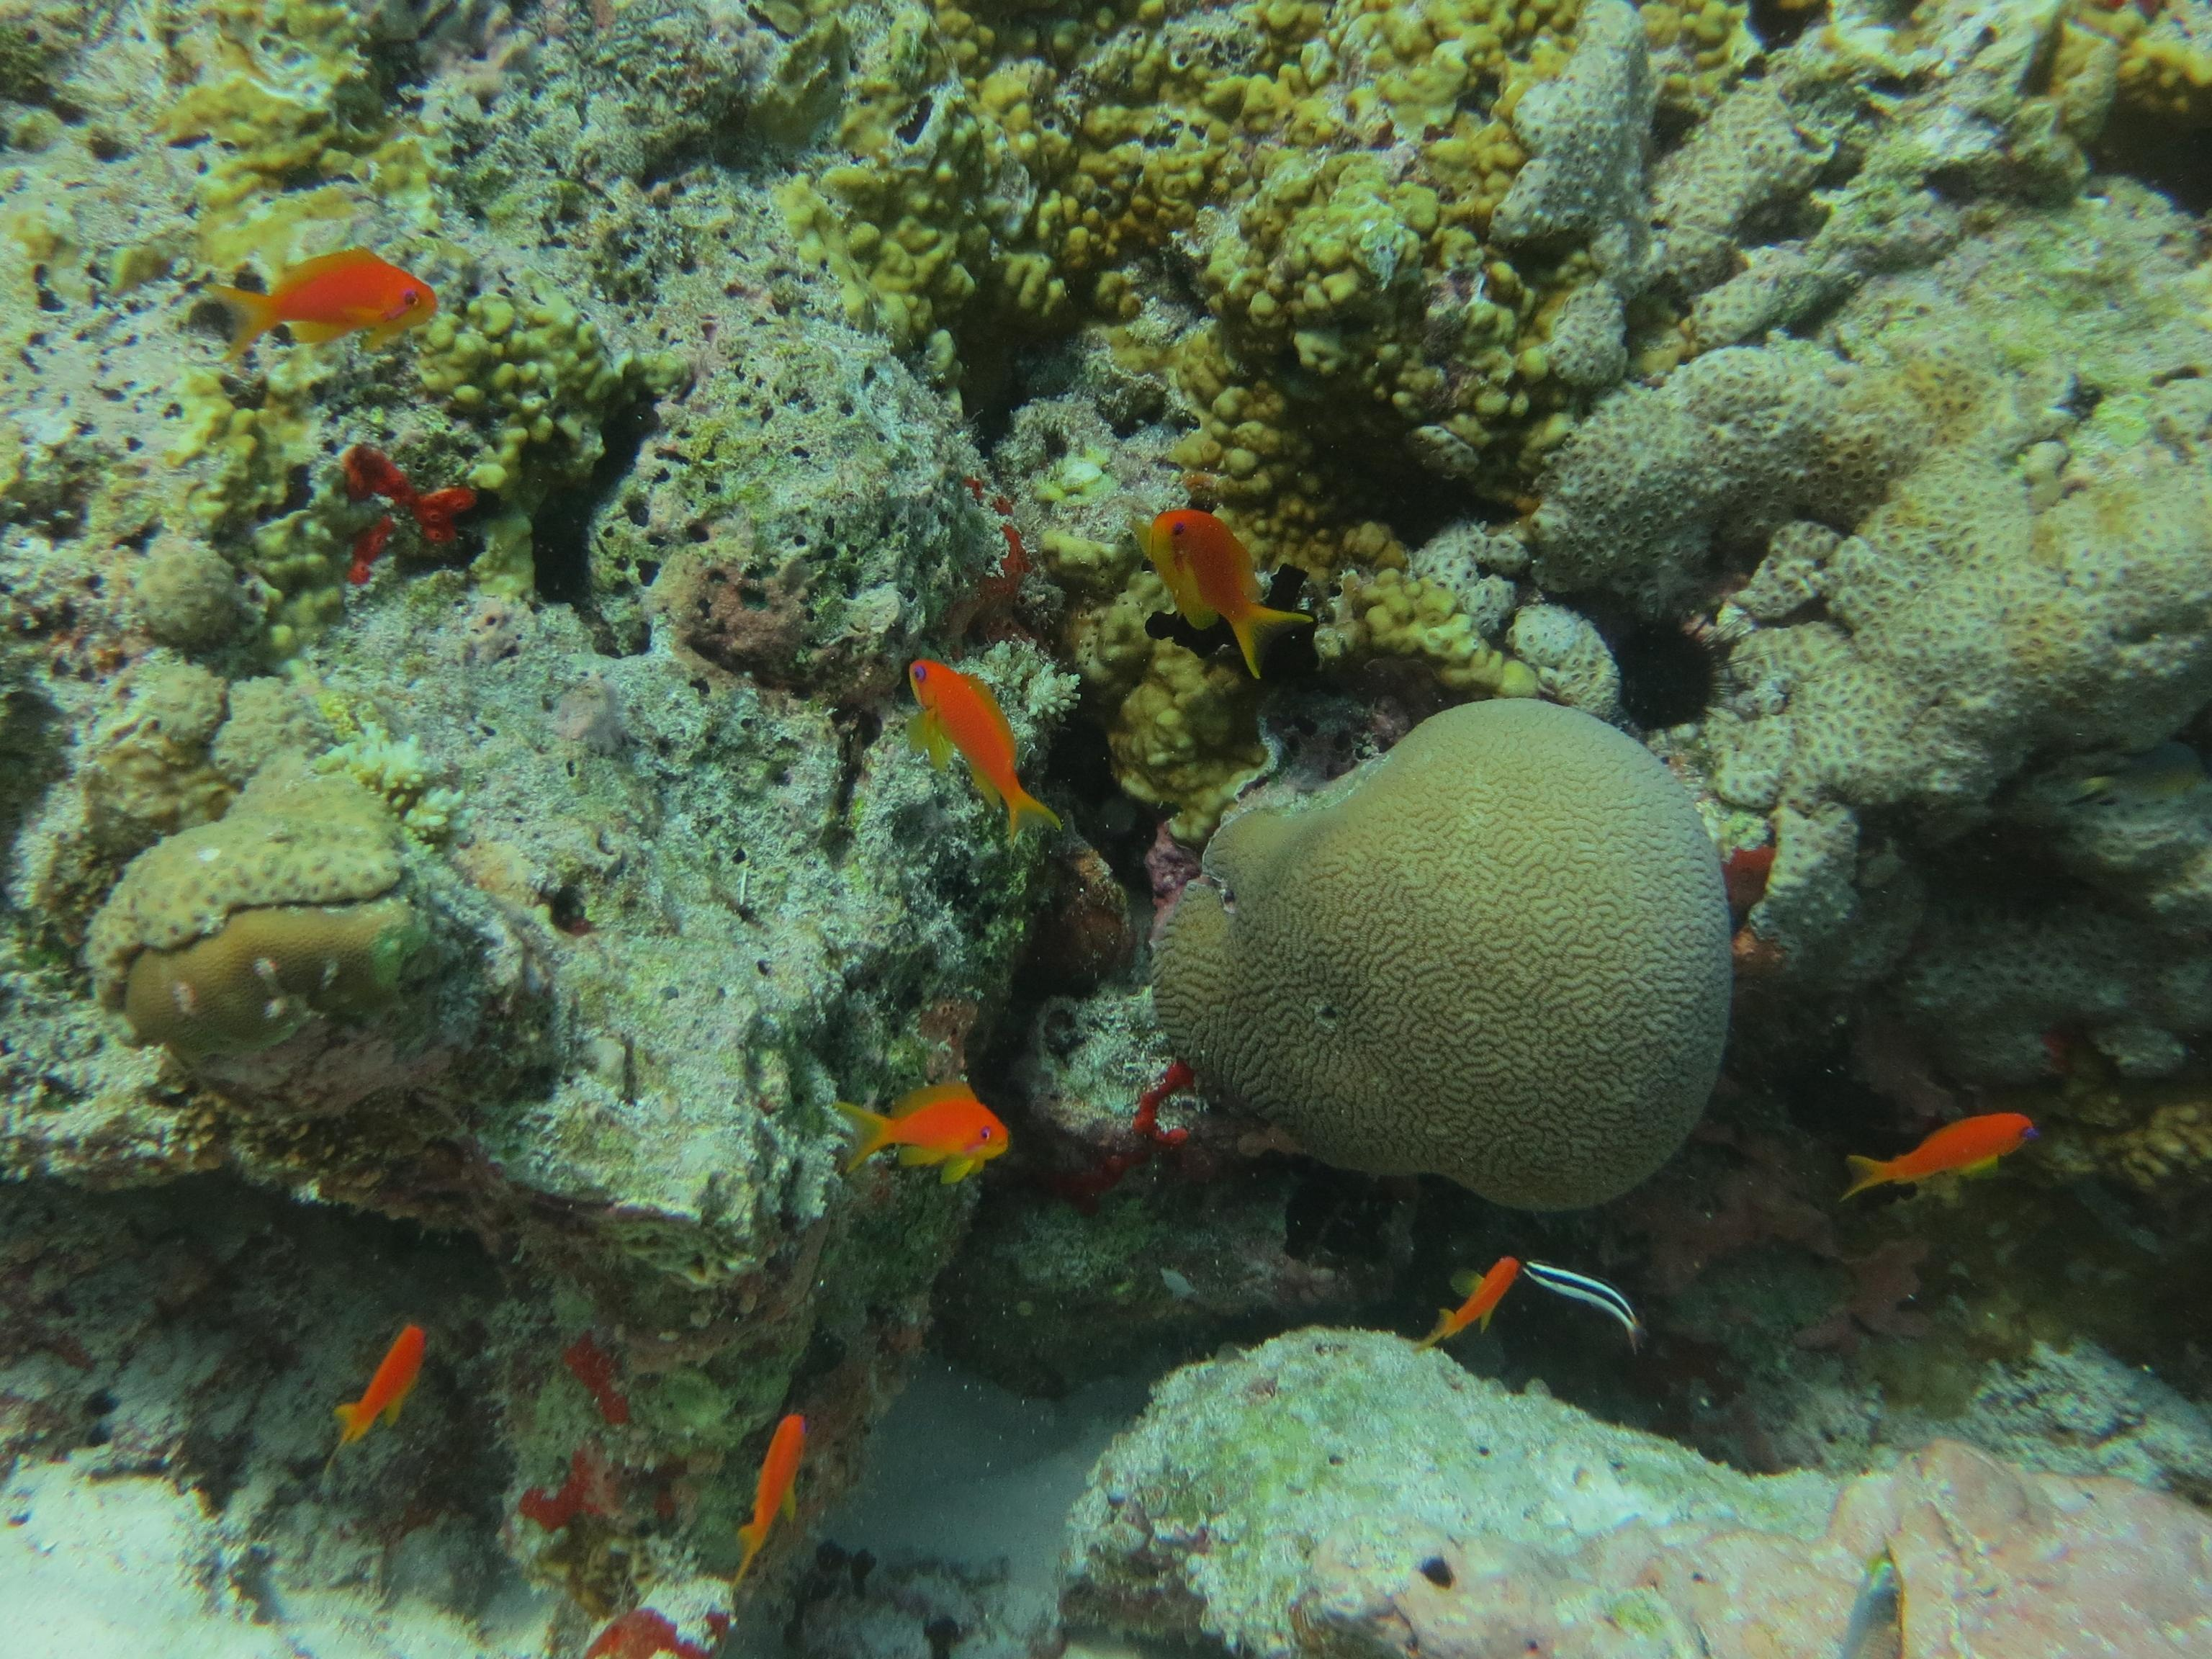Pseadanthias squamipinnis: (792, 584, 1103, 904), (160, 174, 529, 403), (1111, 441, 1325, 730), (732, 1070, 1071, 1234), (272, 1262, 496, 1497), (688, 1340, 876, 1615), (1804, 1070, 2076, 1246), (1413, 1229, 1524, 1378)
